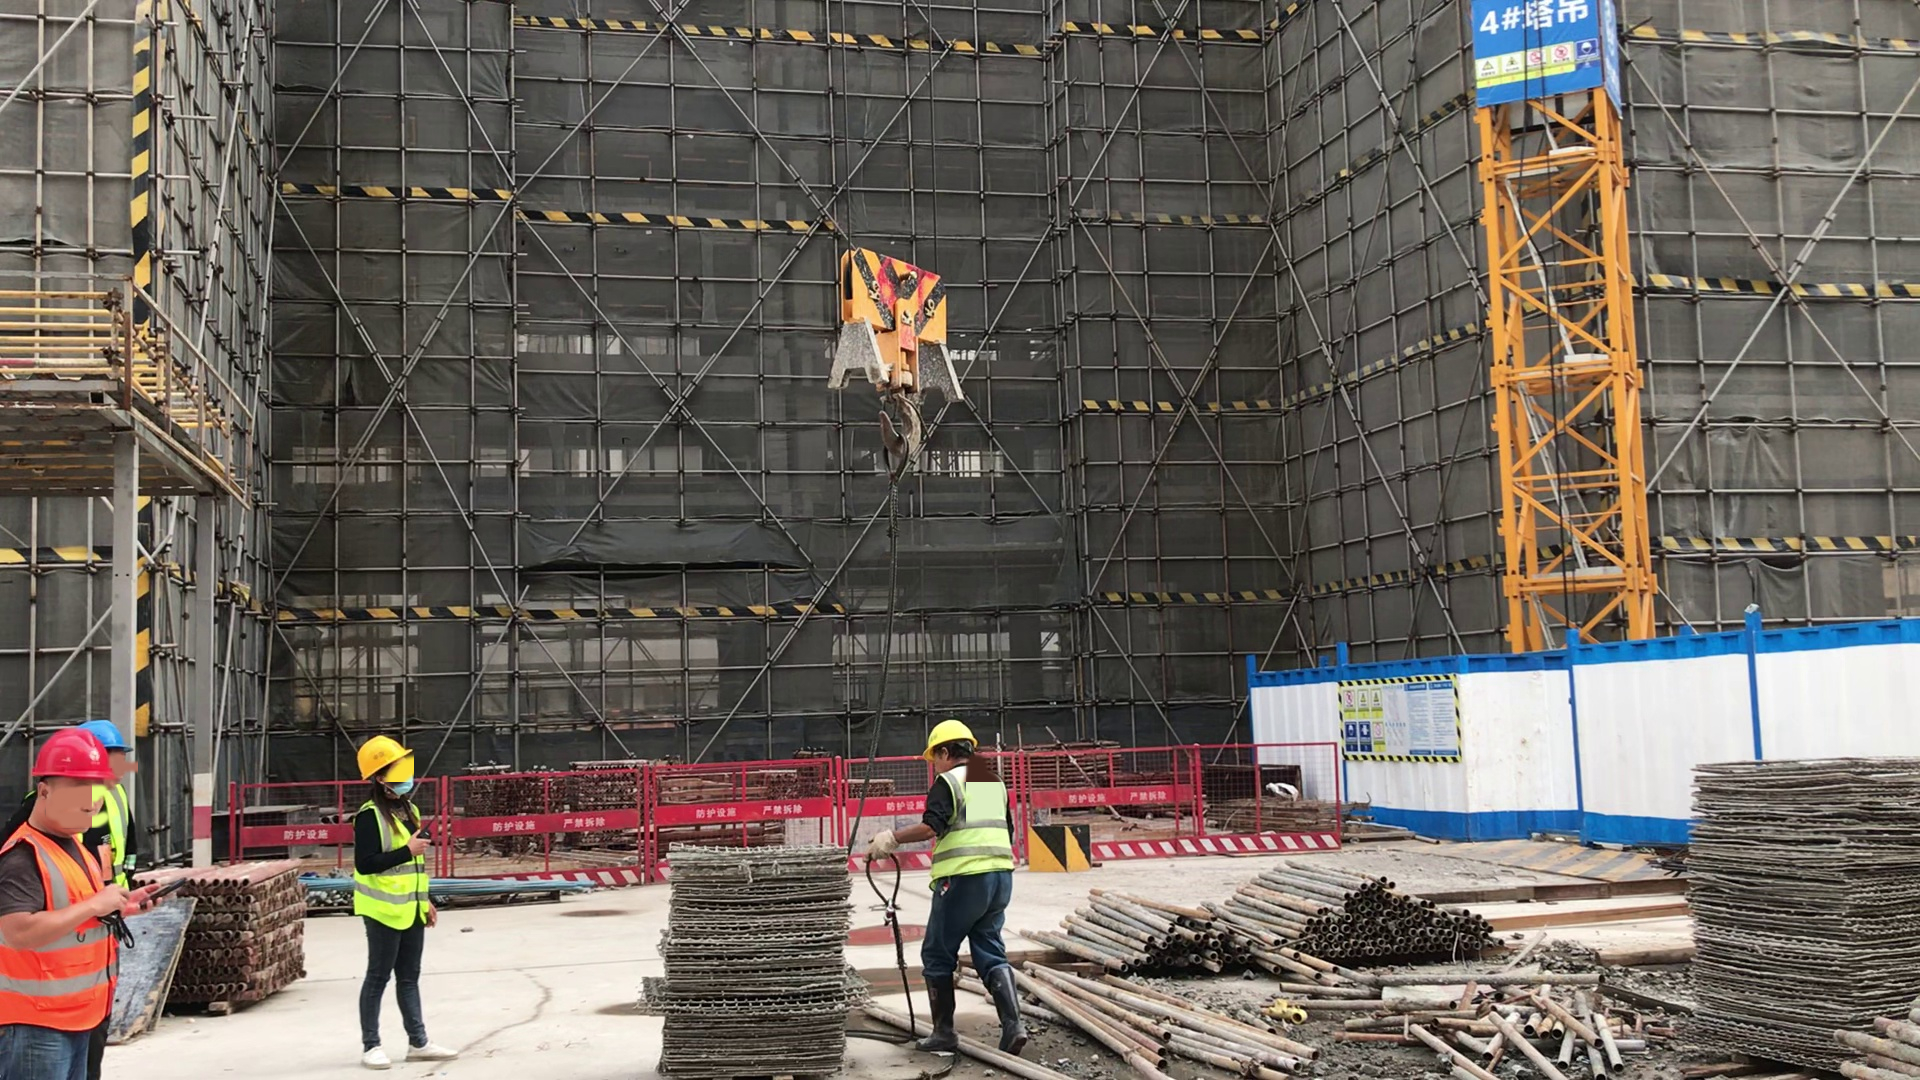helmet: (33, 731, 111, 781), (355, 736, 412, 779), (923, 722, 978, 757), (81, 722, 131, 751)
person: (886, 723, 1024, 1054), (4, 731, 114, 1080), (355, 738, 444, 1065), (74, 719, 133, 970)
vest: (5, 824, 113, 1027), (929, 761, 1013, 888), (352, 804, 433, 926), (100, 784, 136, 895)
